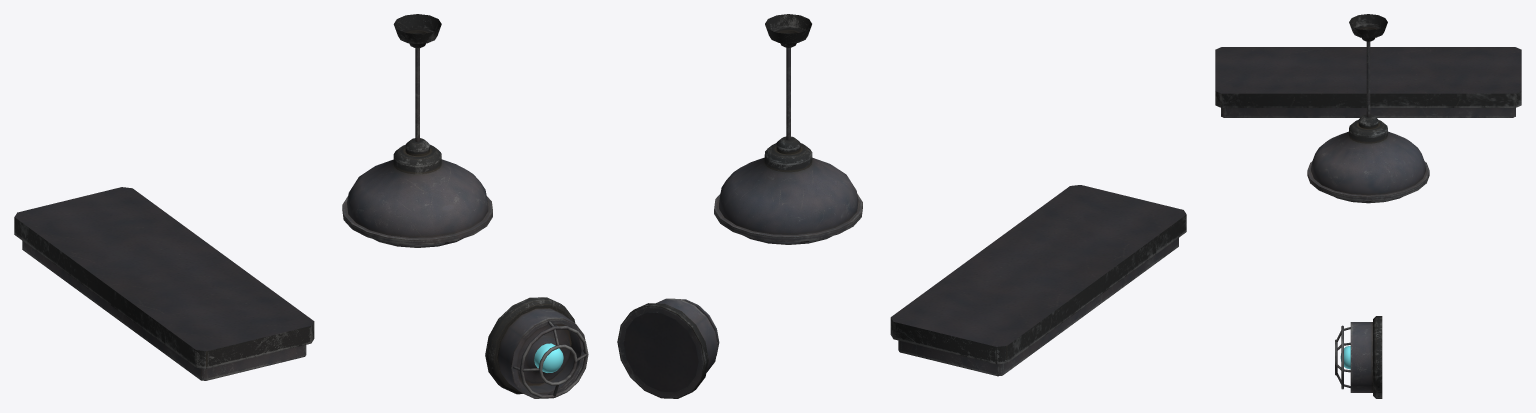
The model's file is lights.fbx.
The picture shows the model from 3 angles, left to right: view 1: azimuth 30°, elevation 25°; view 2: azimuth 150°, elevation 25°; view 3: azimuth 270°, elevation 25°; orthographic projection. The views are drawn at different scales.
Visible parts, largest first — view 1: TLlight, lighthanging, lightwall; view 2: TLlight, lighthanging, lightwall; view 3: TLlight, lighthanging, lightwall.
Part boxes in pixels (bbox=[...]): TLlight: bbox=[14, 187, 314, 380]; lighthanging: bbox=[342, 14, 492, 247]; lightwall: bbox=[485, 297, 588, 398]; TLlight: bbox=[890, 185, 1186, 376]; lighthanging: bbox=[714, 14, 862, 244]; lightwall: bbox=[617, 298, 719, 398]; TLlight: bbox=[1215, 47, 1521, 117]; lighthanging: bbox=[1307, 14, 1429, 203]; lightwall: bbox=[1335, 316, 1382, 398].
Bounding box in the file's own units: 151 × 122 × 104.
1 material, 1 textured.
